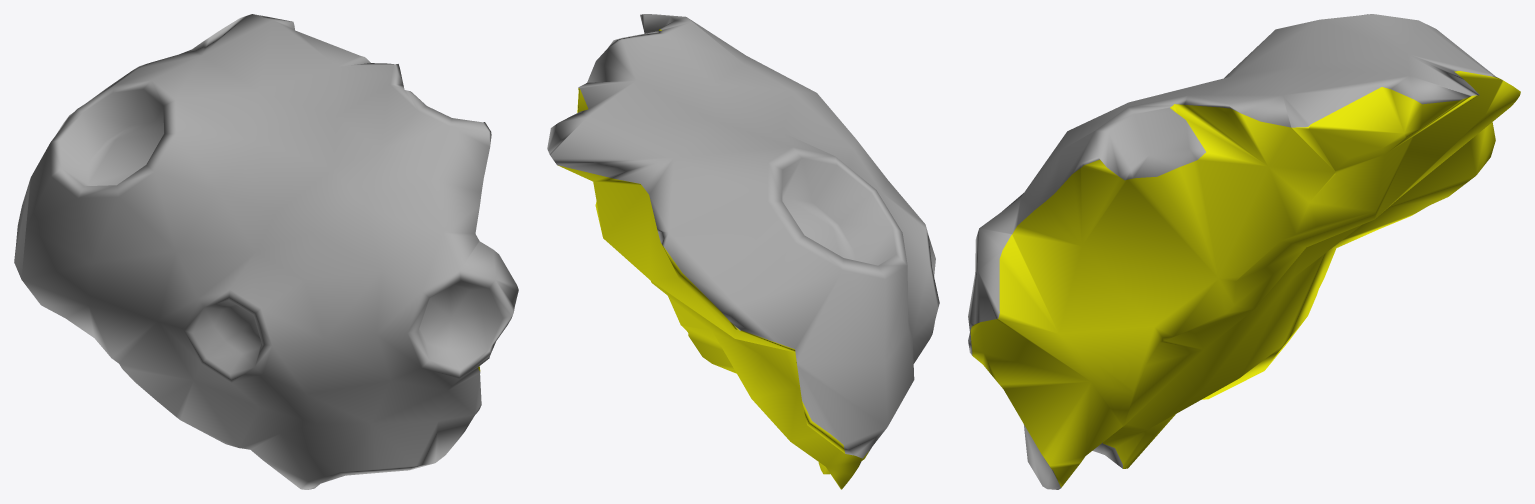
Rendered from Asteroid_01_shard_01.fbx.
The picture shows the model from 3 angles, left to right: view 1: azimuth 30°, elevation 25°; view 2: azimuth 150°, elevation 25°; view 3: azimuth 270°, elevation 25°; orthographic projection. The views are drawn at different scales.
Visible parts, largest first — view 1: Asteroid_01_shard_01; view 2: Asteroid_01_shard_01; view 3: Asteroid_01_shard_01.
Part boxes in pixels (bbox=[...]): Asteroid_01_shard_01: bbox=[14, 14, 518, 489]; Asteroid_01_shard_01: bbox=[547, 14, 939, 489]; Asteroid_01_shard_01: bbox=[968, 14, 1520, 489].
Bounding box in the file's own units: 457 × 475 × 540.
